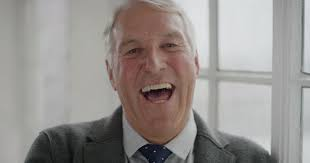white_male: (114, 23, 194, 125)
